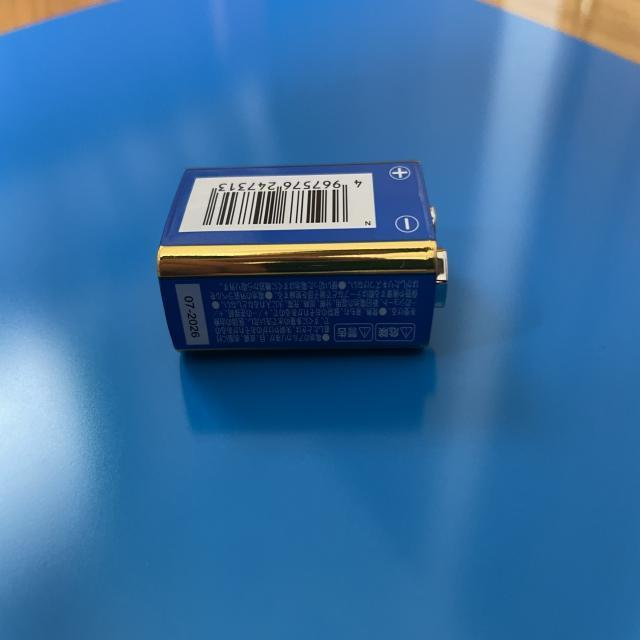9V: (158, 161, 449, 357)
